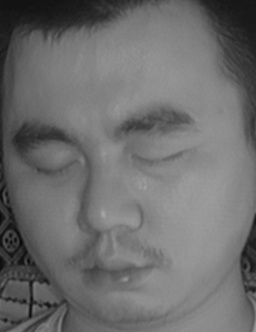blink: (134, 140, 187, 177), (30, 151, 77, 183)
mouth: (70, 241, 165, 299)
